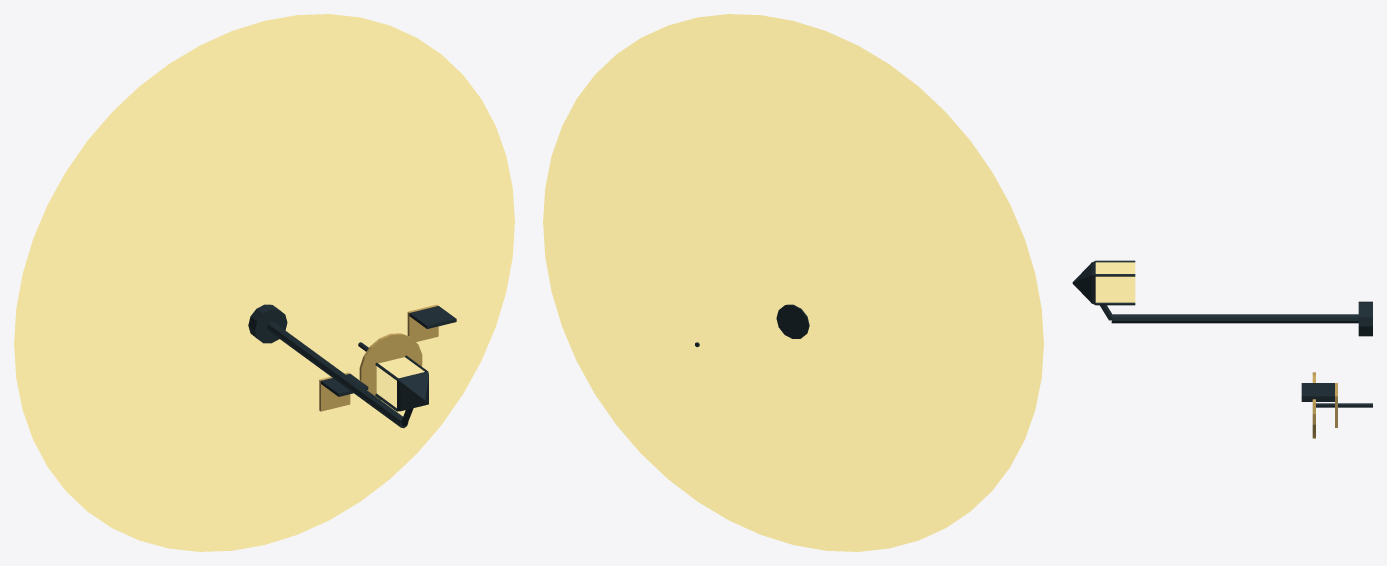
File: lanterne.glb
3 renders of one model, left to right at view 1: azimuth 30°, elevation 25°; view 2: azimuth 150°, elevation 25°; view 3: azimuth 270°, elevation 25°, orthographic. The views are drawn at different scales.
Parts seen in each view (by area): view 1: flaque, mat, plateau, lanterne.001, capot, pied, dossier.001; view 2: flaque, pied; view 3: mat, lanterne.001, capot, dossier.001, pied.
Boxes of the visible parts, x1,y1,x2,y2 form: flaque: (14,14,514,551); mat: (267,322,408,428); plateau: (359,333,422,399); lanterne.001: (376,357,424,407); capot: (397,371,428,411); pied: (248,304,287,343); dossier.001: (409,306,456,328); flaque: (543,14,1043,551); pied: (776,304,809,338); mat: (1111,314,1358,323); lanterne.001: (1095,262,1135,302); capot: (1072,261,1095,304); dossier.001: (1301,383,1334,399); pied: (1358,301,1372,336).
Size of the model in its own units: 6.8 by 6.8 by 3.8.
